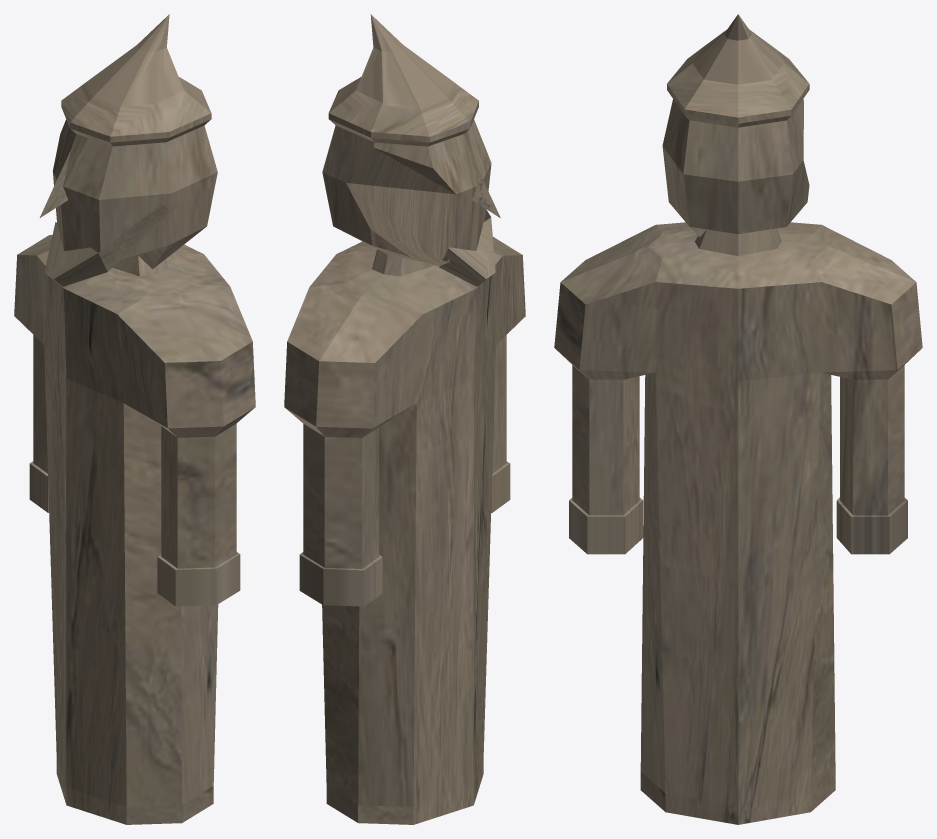
The model's file is Statue9.fbx.
3 views of the same model, side by side, from view 1: azimuth 30°, elevation 25°; view 2: azimuth 150°, elevation 25°; view 3: azimuth 270°, elevation 25° (orthographic). The views are drawn at different scales.
Visible parts, largest first — view 1: Circle, Cube.001, Cube; view 2: Circle, Cube.001, Cube; view 3: Circle.
Part boxes in pixels (<box>): Circle: <box>14,14,255,824</box>; Cube.001: <box>44,204,170,286</box>; Cube: <box>40,151,70,217</box>; Circle: <box>284,14,525,824</box>; Cube.001: <box>439,210,495,286</box>; Cube: <box>469,151,500,217</box>; Circle: <box>554,14,922,824</box>.
Bounding box in the file's own units: 48.21 × 212 × 89.1.
